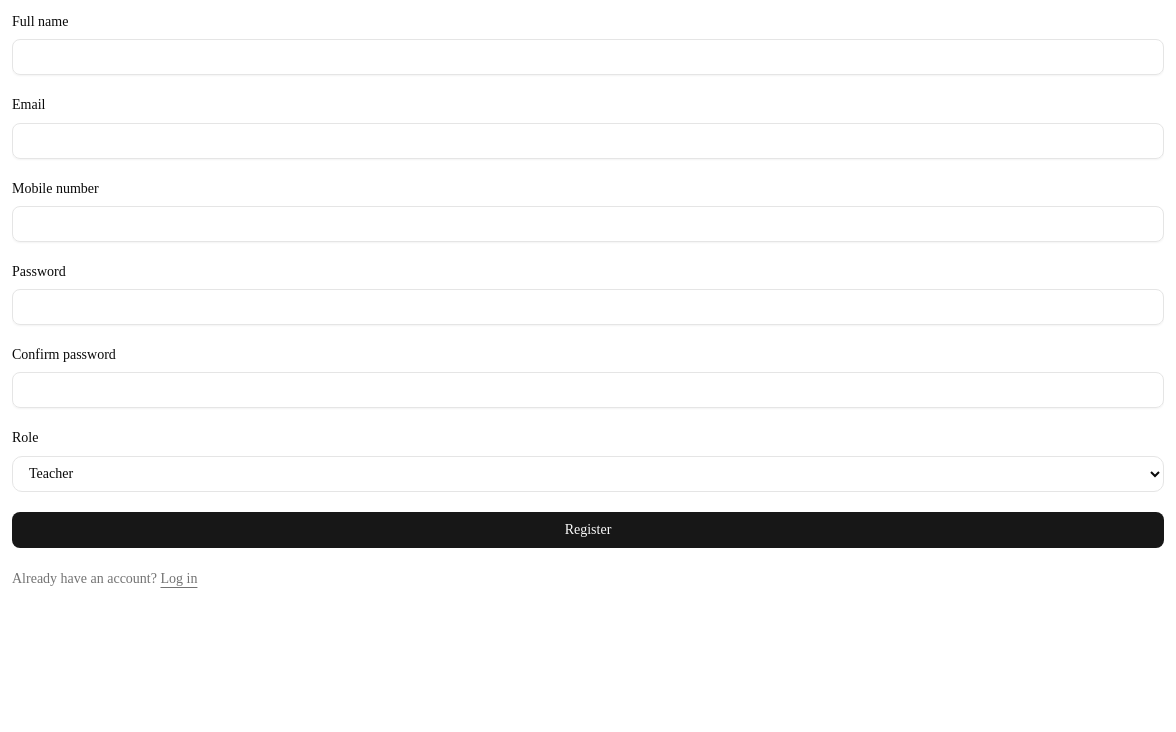
Test case: AC-002: Register server errors › displays server error on duplicate email
Type "Jane Teacher" into the field labelled "Full name" at [588, 57], box x1=12 y1=39 x2=1164 y2=75
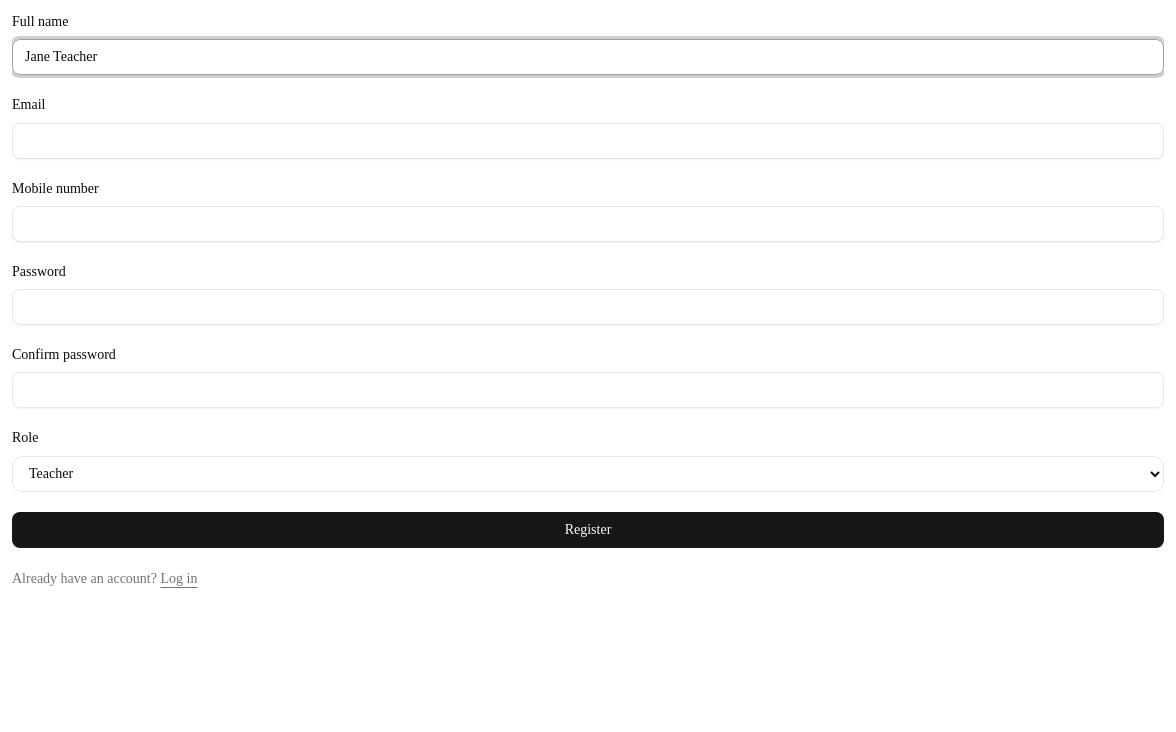
Type "jane@school.edu" into the field labelled "Email" at [588, 140], box x1=12 y1=122 x2=1164 y2=158
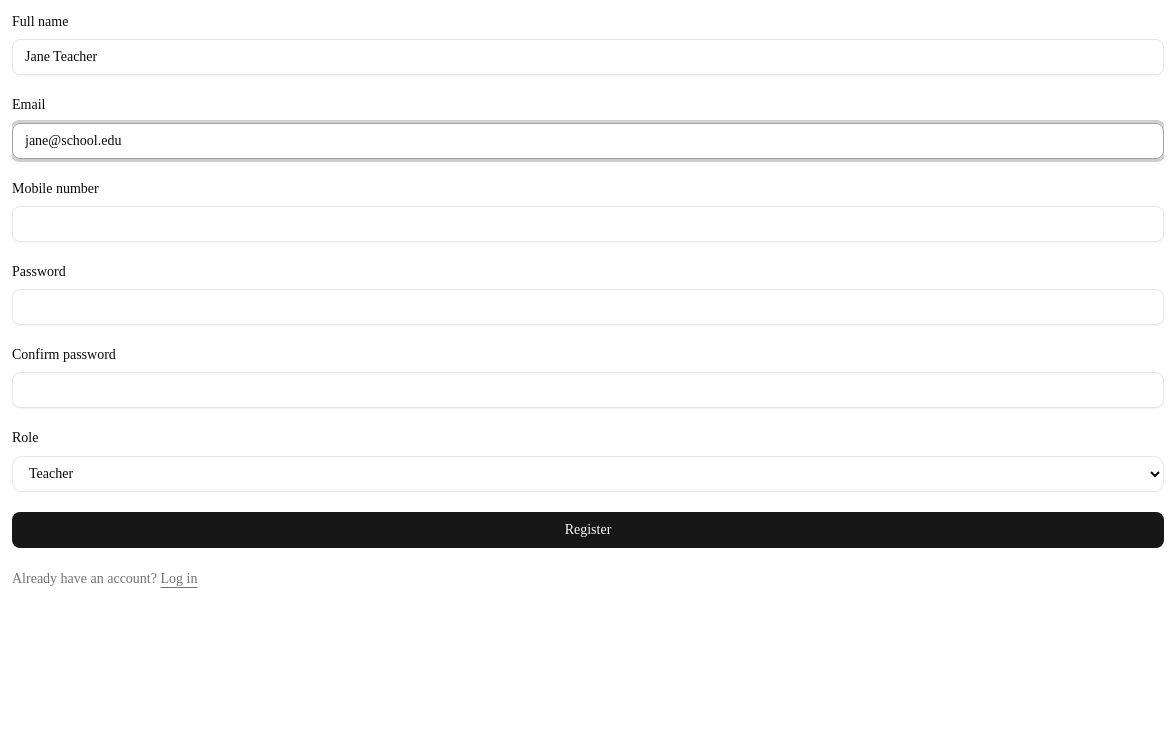
Type "+919876543210" into the field labelled "Mobile number" at [588, 224], box x1=12 y1=206 x2=1164 y2=242
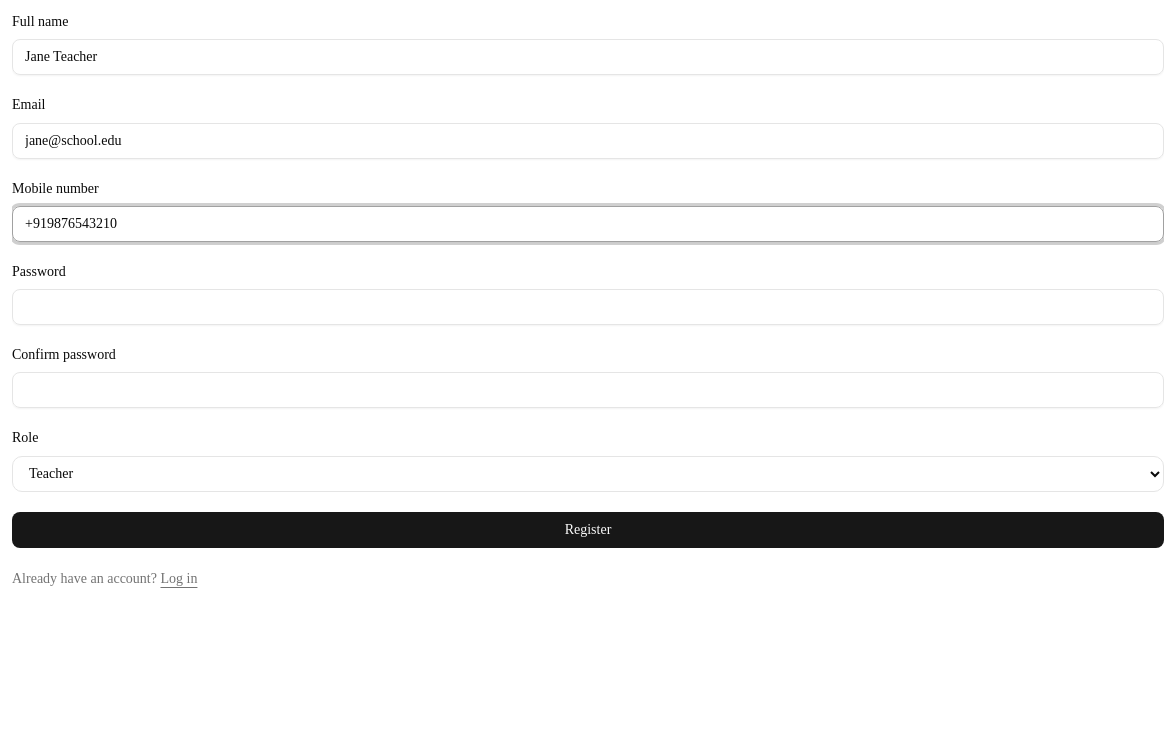
Type "SecurePass123!" into the password field labelled "Password" at [588, 307], box x1=12 y1=289 x2=1164 y2=325
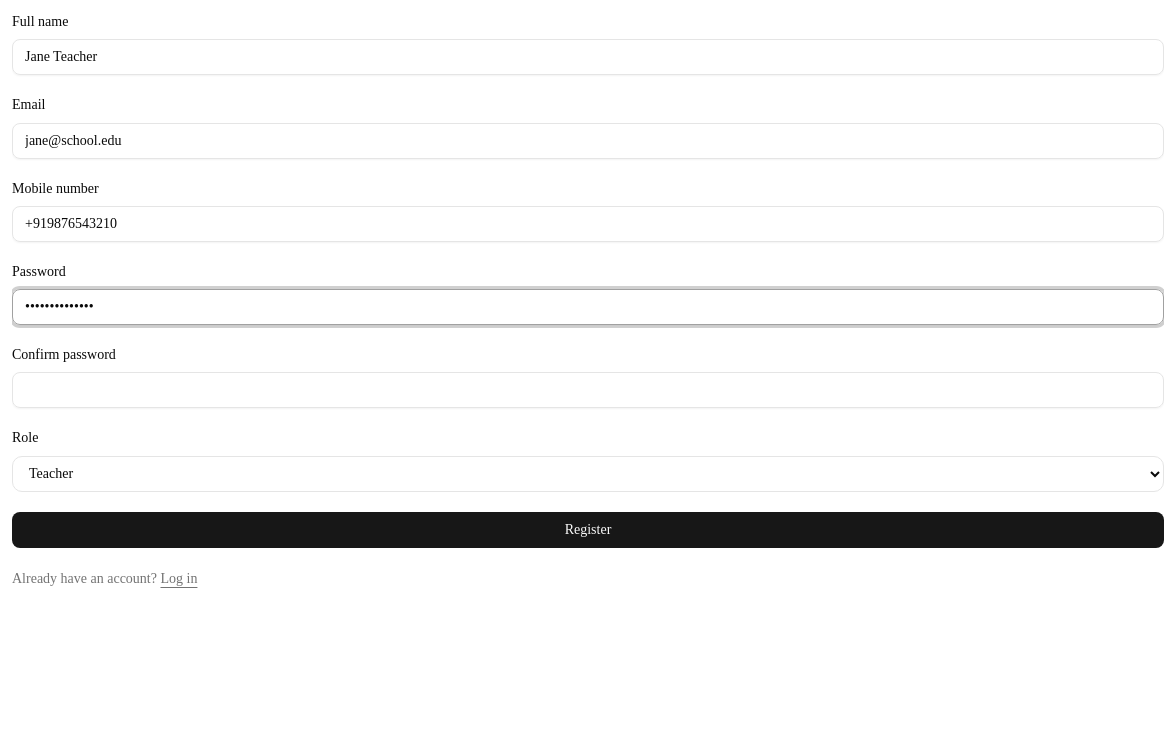
Type "SecurePass123!" into the password field labelled "Confirm password" at [588, 390], box x1=12 y1=372 x2=1164 y2=408
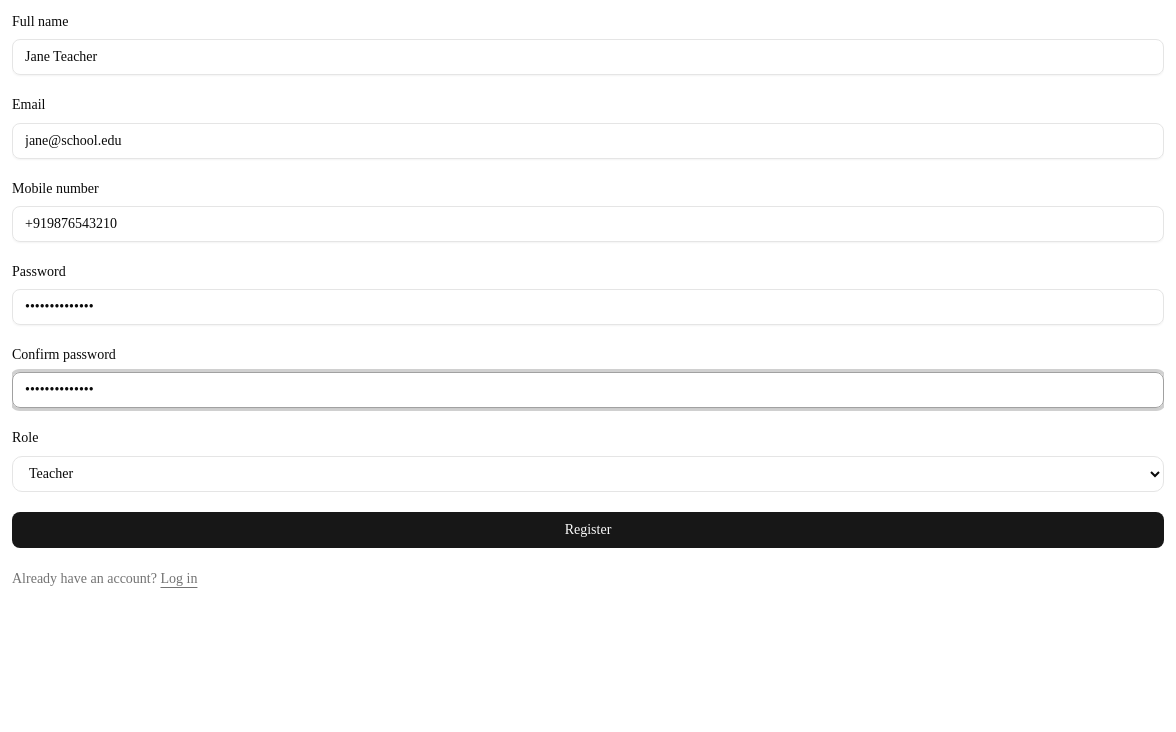
Click the button "Register" at [588, 530], box x1=12 y1=512 x2=1164 y2=548
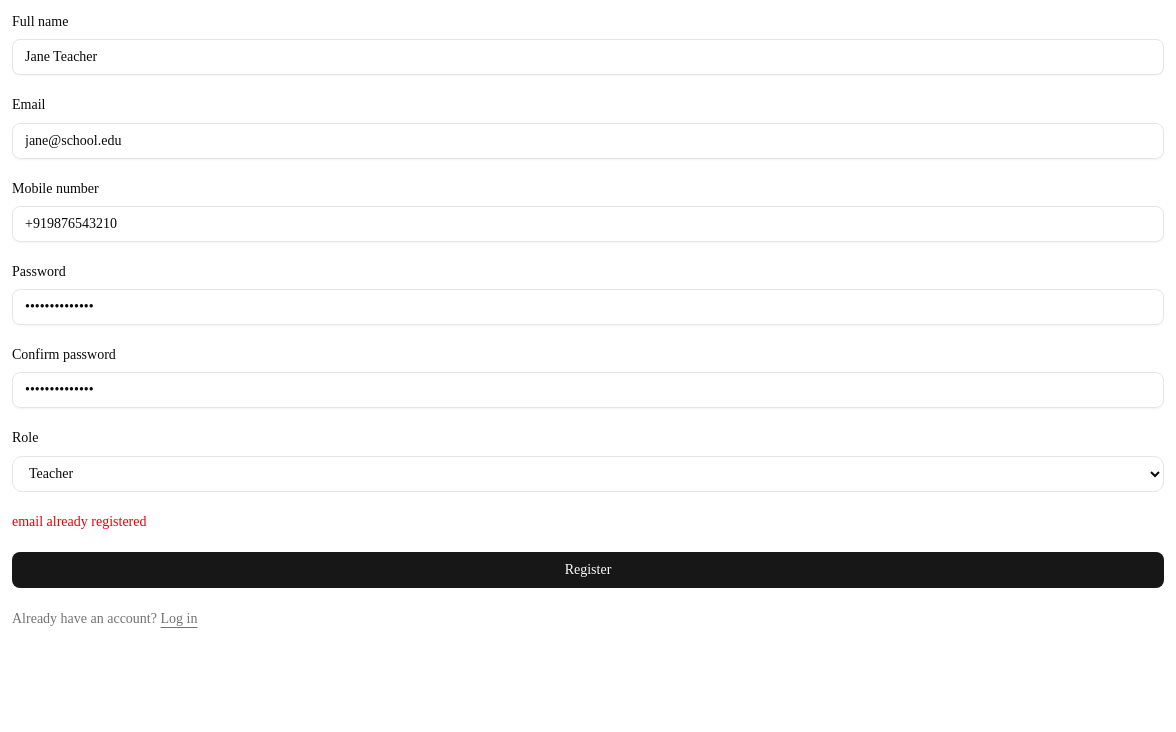
expect the text "email already registered" is shown: met, box x1=12 y1=514 x2=146 y2=528
